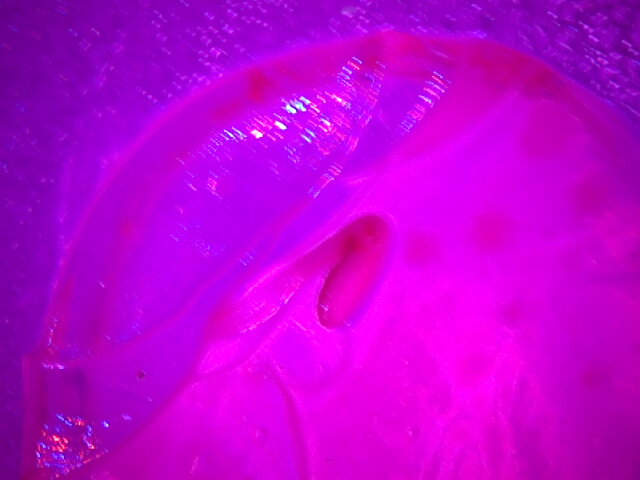sprout: (214, 218, 405, 360)
